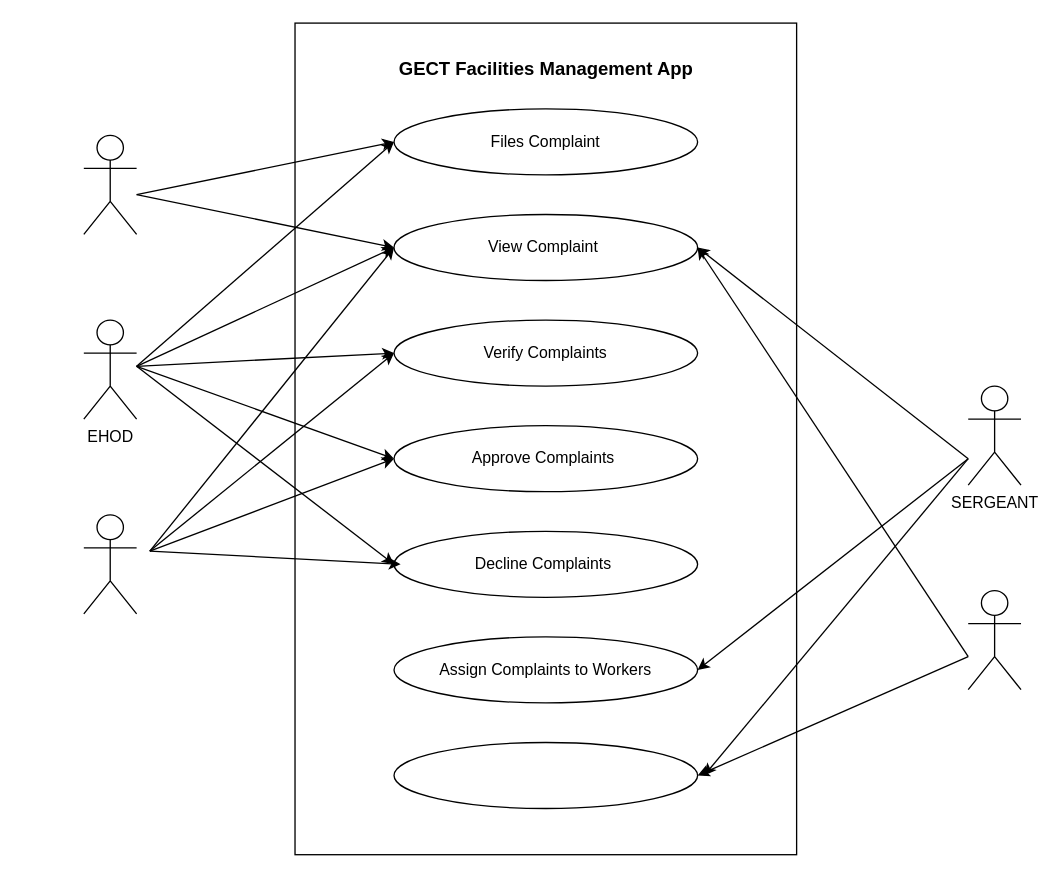
Image size: 1061x878. Some labels were removed from this diagram. Here are the shapes that lost their labels. From the top down, the centre of each, then its label:
At point 109,184: "HOD".
At point 109,563: "PLUMBING IN-CHARGE".
At point 994,639: "PRINCIPAL".
At point 545,774: "Manage Complaints".
